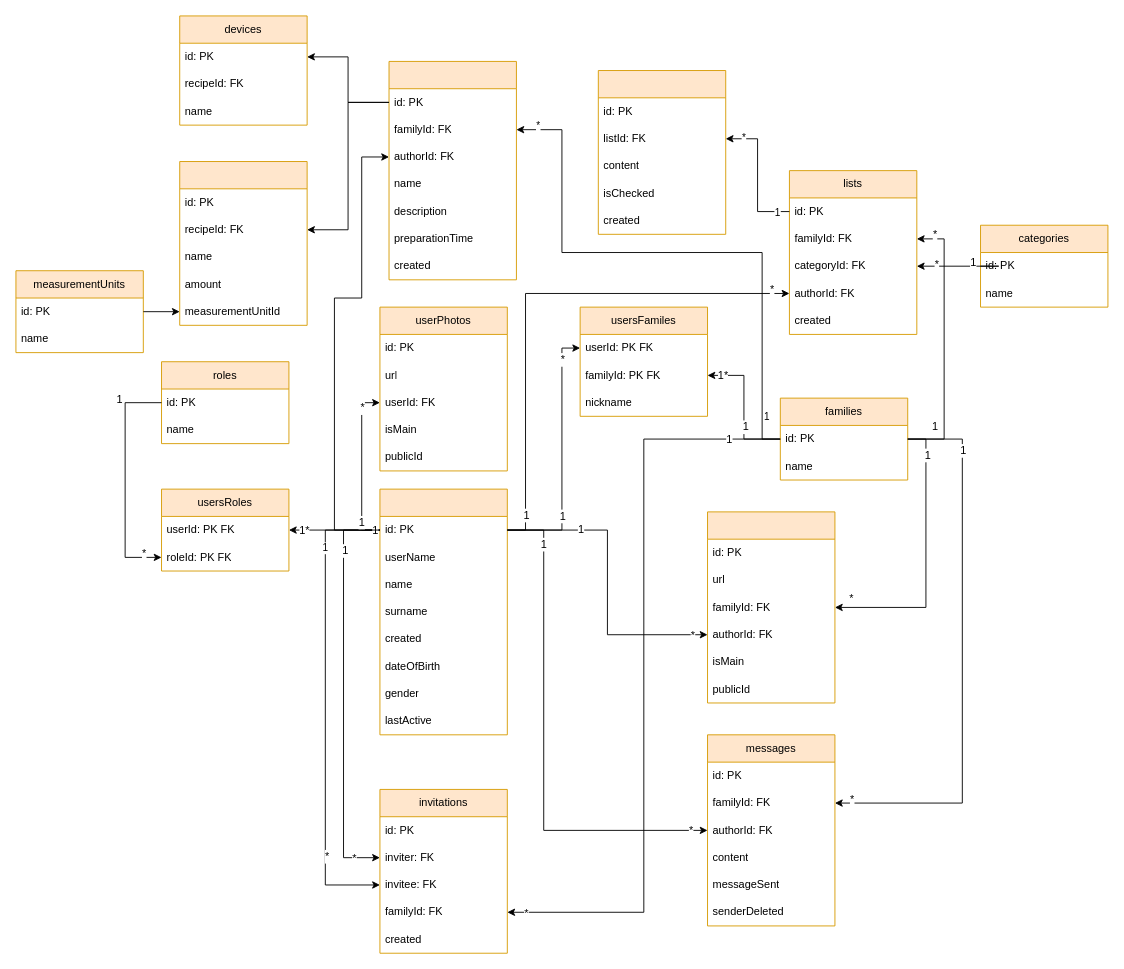
Image size: 1124x969. Some labels were removed from this diagram. The shapes that lost their labels are listed below. From the top down, each one's box as (x1, y1, x2, y2) in pixels, then its label:
(388, 61, 516, 280): recipes
(597, 70, 726, 234): items
(179, 161, 307, 325): ingridients
(379, 488, 507, 735): users
(707, 511, 835, 703): familyPhotos
